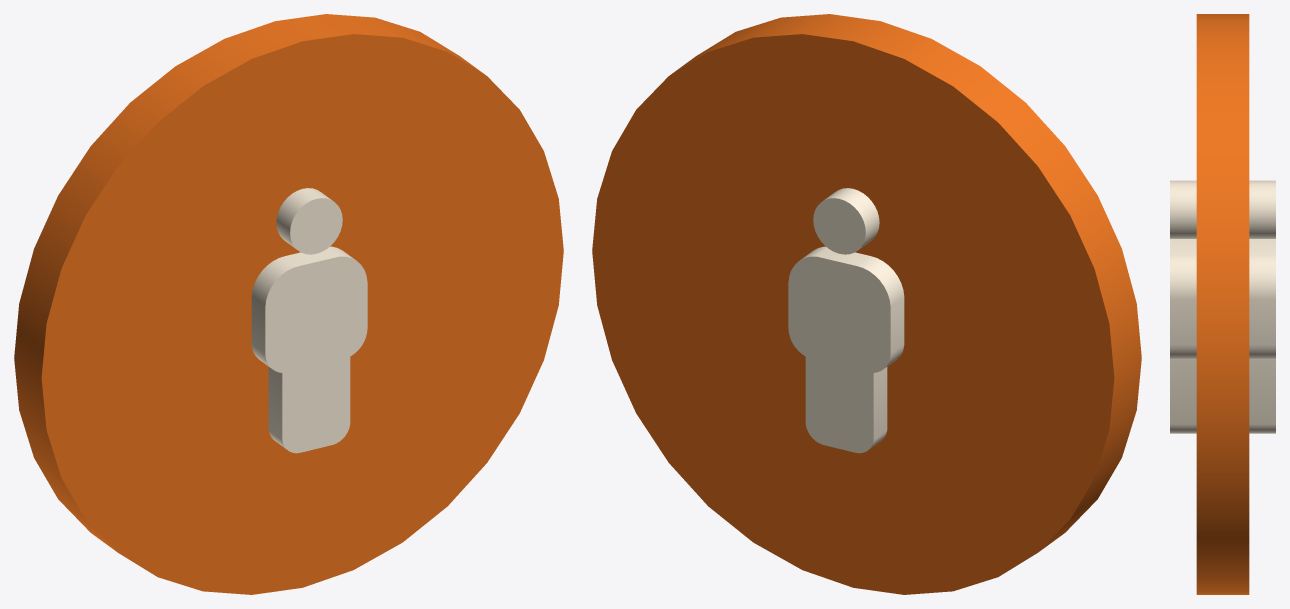
The model's file is icon_person.gltf.
The picture shows the model from 3 angles, left to right: view 1: azimuth 30°, elevation 25°; view 2: azimuth 150°, elevation 25°; view 3: azimuth 270°, elevation 25°; orthographic projection. The views are drawn at different scales.
Parts seen in each view (by area): view 1: Cylinder, person; view 2: Cylinder, person; view 3: Cylinder, person.
Boxes of the visible parts, <box> form: Cylinder: <box>14,14,563,594</box>; person: <box>251,188,367,453</box>; Cylinder: <box>592,14,1141,594</box>; person: <box>788,188,904,453</box>; Cylinder: <box>1196,14,1249,594</box>; person: <box>1170,180,1275,433</box>.
Size of the model in its own units: 0.11 by 0.11 by 0.02.
